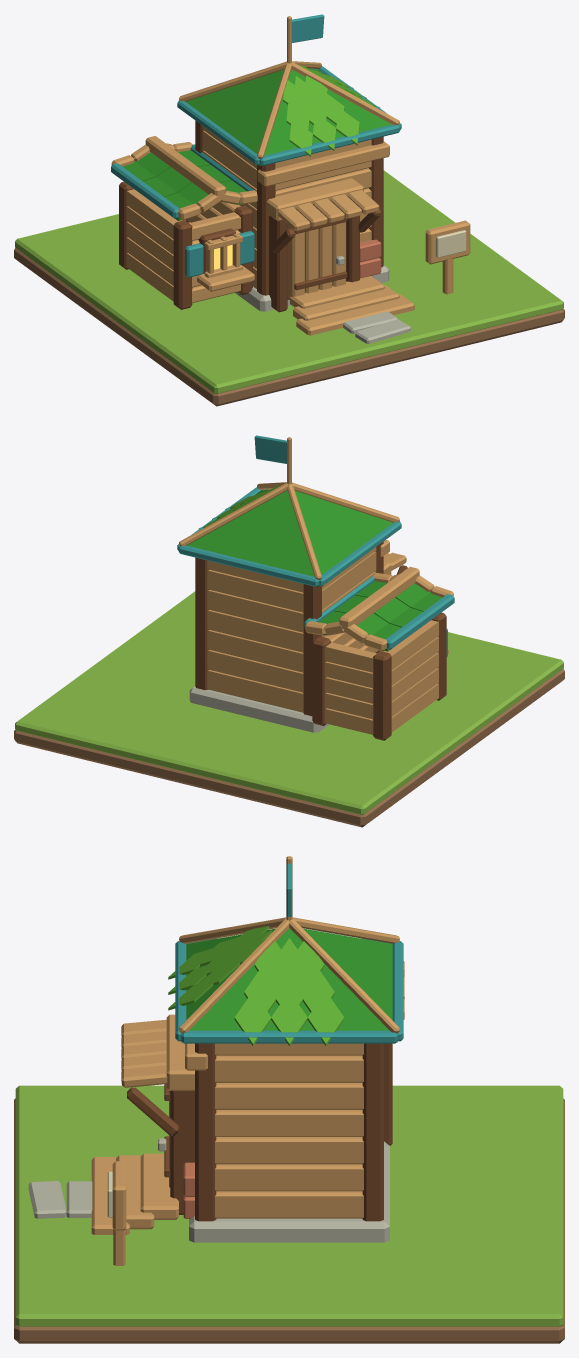
Rendered from town_hall_l03_active_LOD0.glb.
3 renders of one model, top to bottom at view 1: azimuth 30°, elevation 25°; view 2: azimuth 150°, elevation 25°; view 3: azimuth 270°, elevation 25°, orthographic. The views are drawn at different scales.
Visible parts, largest first — view 1: town_hall_l03_active_grass_tile, town_hall_l03_active_earth_tile, town_hall_l03_active_floor_crossbeam, town_hall_l03_active_hip_roof_shingle.011, town_hall_l03_active_entry_step.002, town_hall_l03_active_corner_reinforcement, town_hall_l03_active_ridge_cap.004, town_hall_l03_active_door_jamb, town_hall_l03_active_door_lintel, town_hall_l03_active_corner_reinforcement.004, town_hall_l03_active_hip_roof_shingle.010, town_hall_l03_active_entry_step.001 (+40 smaller); view 2: town_hall_l03_active_grass_tile, town_hall_l03_active_earth_tile, town_hall_l03_active_hip_roof_shingle.008, town_hall_l03_active_foundation, town_hall_l03_active_hip_roof_shingle.011, town_hall_l03_active_wall_siding.013, town_hall_l03_active_wall_siding.017, town_hall_l03_active_wall_siding.005, town_hall_l03_active_wall_siding.009, town_hall_l03_active_wall_siding.021, town_hall_l03_active_wall_siding.001, town_hall_l03_active_hip_roof_shingle.007 (+27 smaller); view 3: town_hall_l03_active_grass_tile, town_hall_l03_active_earth_tile, town_hall_l03_active_foundation, town_hall_l03_active_wall_siding.003, town_hall_l03_active_wall_siding.007, town_hall_l03_active_wall_siding.011, town_hall_l03_active_wall_siding.023, town_hall_l03_active_wall_siding.015, town_hall_l03_active_wall_siding.019, town_hall_l03_active_corner_reinforcement.003, town_hall_l03_active_corner_reinforcement.002, town_hall_l03_active_eave_trim.001 (+32 smaller).
Boxes of the visible parts, x1=… form: town_hall_l03_active_grass_tile: x1=15, y1=170, x2=563, y2=393; town_hall_l03_active_earth_tile: x1=14, y1=248, x2=564, y2=406; town_hall_l03_active_floor_crossbeam: x1=257, y1=141, x2=389, y2=186; town_hall_l03_active_hip_roof_shingle.011: x1=185, y1=91, x2=265, y2=165; town_hall_l03_active_entry_step.002: x1=296, y1=294, x2=414, y2=335; town_hall_l03_active_corner_reinforcement: x1=257, y1=163, x2=275, y2=295; town_hall_l03_active_ridge_cap.004: x1=145, y1=136, x2=226, y2=198; town_hall_l03_active_door_jamb: x1=269, y1=215, x2=287, y2=312; town_hall_l03_active_door_lintel: x1=266, y1=178, x2=363, y2=221; town_hall_l03_active_corner_reinforcement.004: x1=173, y1=220, x2=192, y2=309; town_hall_l03_active_hip_roof_shingle.010: x1=216, y1=80, x2=275, y2=127; town_hall_l03_active_entry_step.001: x1=293, y1=285, x2=399, y2=320; town_hall_l03_active_grass_tile: x1=15, y1=591, x2=563, y2=814; town_hall_l03_active_earth_tile: x1=14, y1=669, x2=564, y2=827; town_hall_l03_active_hip_roof_shingle.008: x1=187, y1=529, x2=319, y2=586; town_hall_l03_active_foundation: x1=189, y1=686, x2=329, y2=732; town_hall_l03_active_hip_roof_shingle.011: x1=313, y1=512, x2=393, y2=586; town_hall_l03_active_wall_siding.013: x1=207, y1=610, x2=303, y2=652; town_hall_l03_active_wall_siding.017: x1=207, y1=590, x2=303, y2=632; town_hall_l03_active_wall_siding.005: x1=207, y1=650, x2=303, y2=692; town_hall_l03_active_wall_siding.009: x1=207, y1=630, x2=303, y2=672; town_hall_l03_active_wall_siding.021: x1=207, y1=570, x2=303, y2=612; town_hall_l03_active_wall_siding.001: x1=207, y1=670, x2=303, y2=712; town_hall_l03_active_hip_roof_shingle.007: x1=217, y1=509, x2=306, y2=550; town_hall_l03_active_grass_tile: x1=15, y1=1085, x2=563, y2=1326; town_hall_l03_active_earth_tile: x1=14, y1=1098, x2=564, y2=1343; town_hall_l03_active_foundation: x1=189, y1=1141, x2=389, y2=1242; town_hall_l03_active_wall_siding.003: x1=215, y1=1191, x2=363, y2=1218; town_hall_l03_active_wall_siding.007: x1=215, y1=1164, x2=363, y2=1191; town_hall_l03_active_wall_siding.011: x1=215, y1=1137, x2=363, y2=1164; town_hall_l03_active_wall_siding.023: x1=215, y1=1055, x2=363, y2=1082; town_hall_l03_active_wall_siding.015: x1=215, y1=1110, x2=363, y2=1136; town_hall_l03_active_wall_siding.019: x1=215, y1=1083, x2=363, y2=1109; town_hall_l03_active_corner_reinforcement.003: x1=362, y1=1043, x2=383, y2=1221; town_hall_l03_active_corner_reinforcement.002: x1=195, y1=1043, x2=216, y2=1221; town_hall_l03_active_eave_trim.001: x1=181, y1=1030, x2=397, y2=1043.
Bounding box in the file's own units: 3.6 × 2.69 × 3.6.
